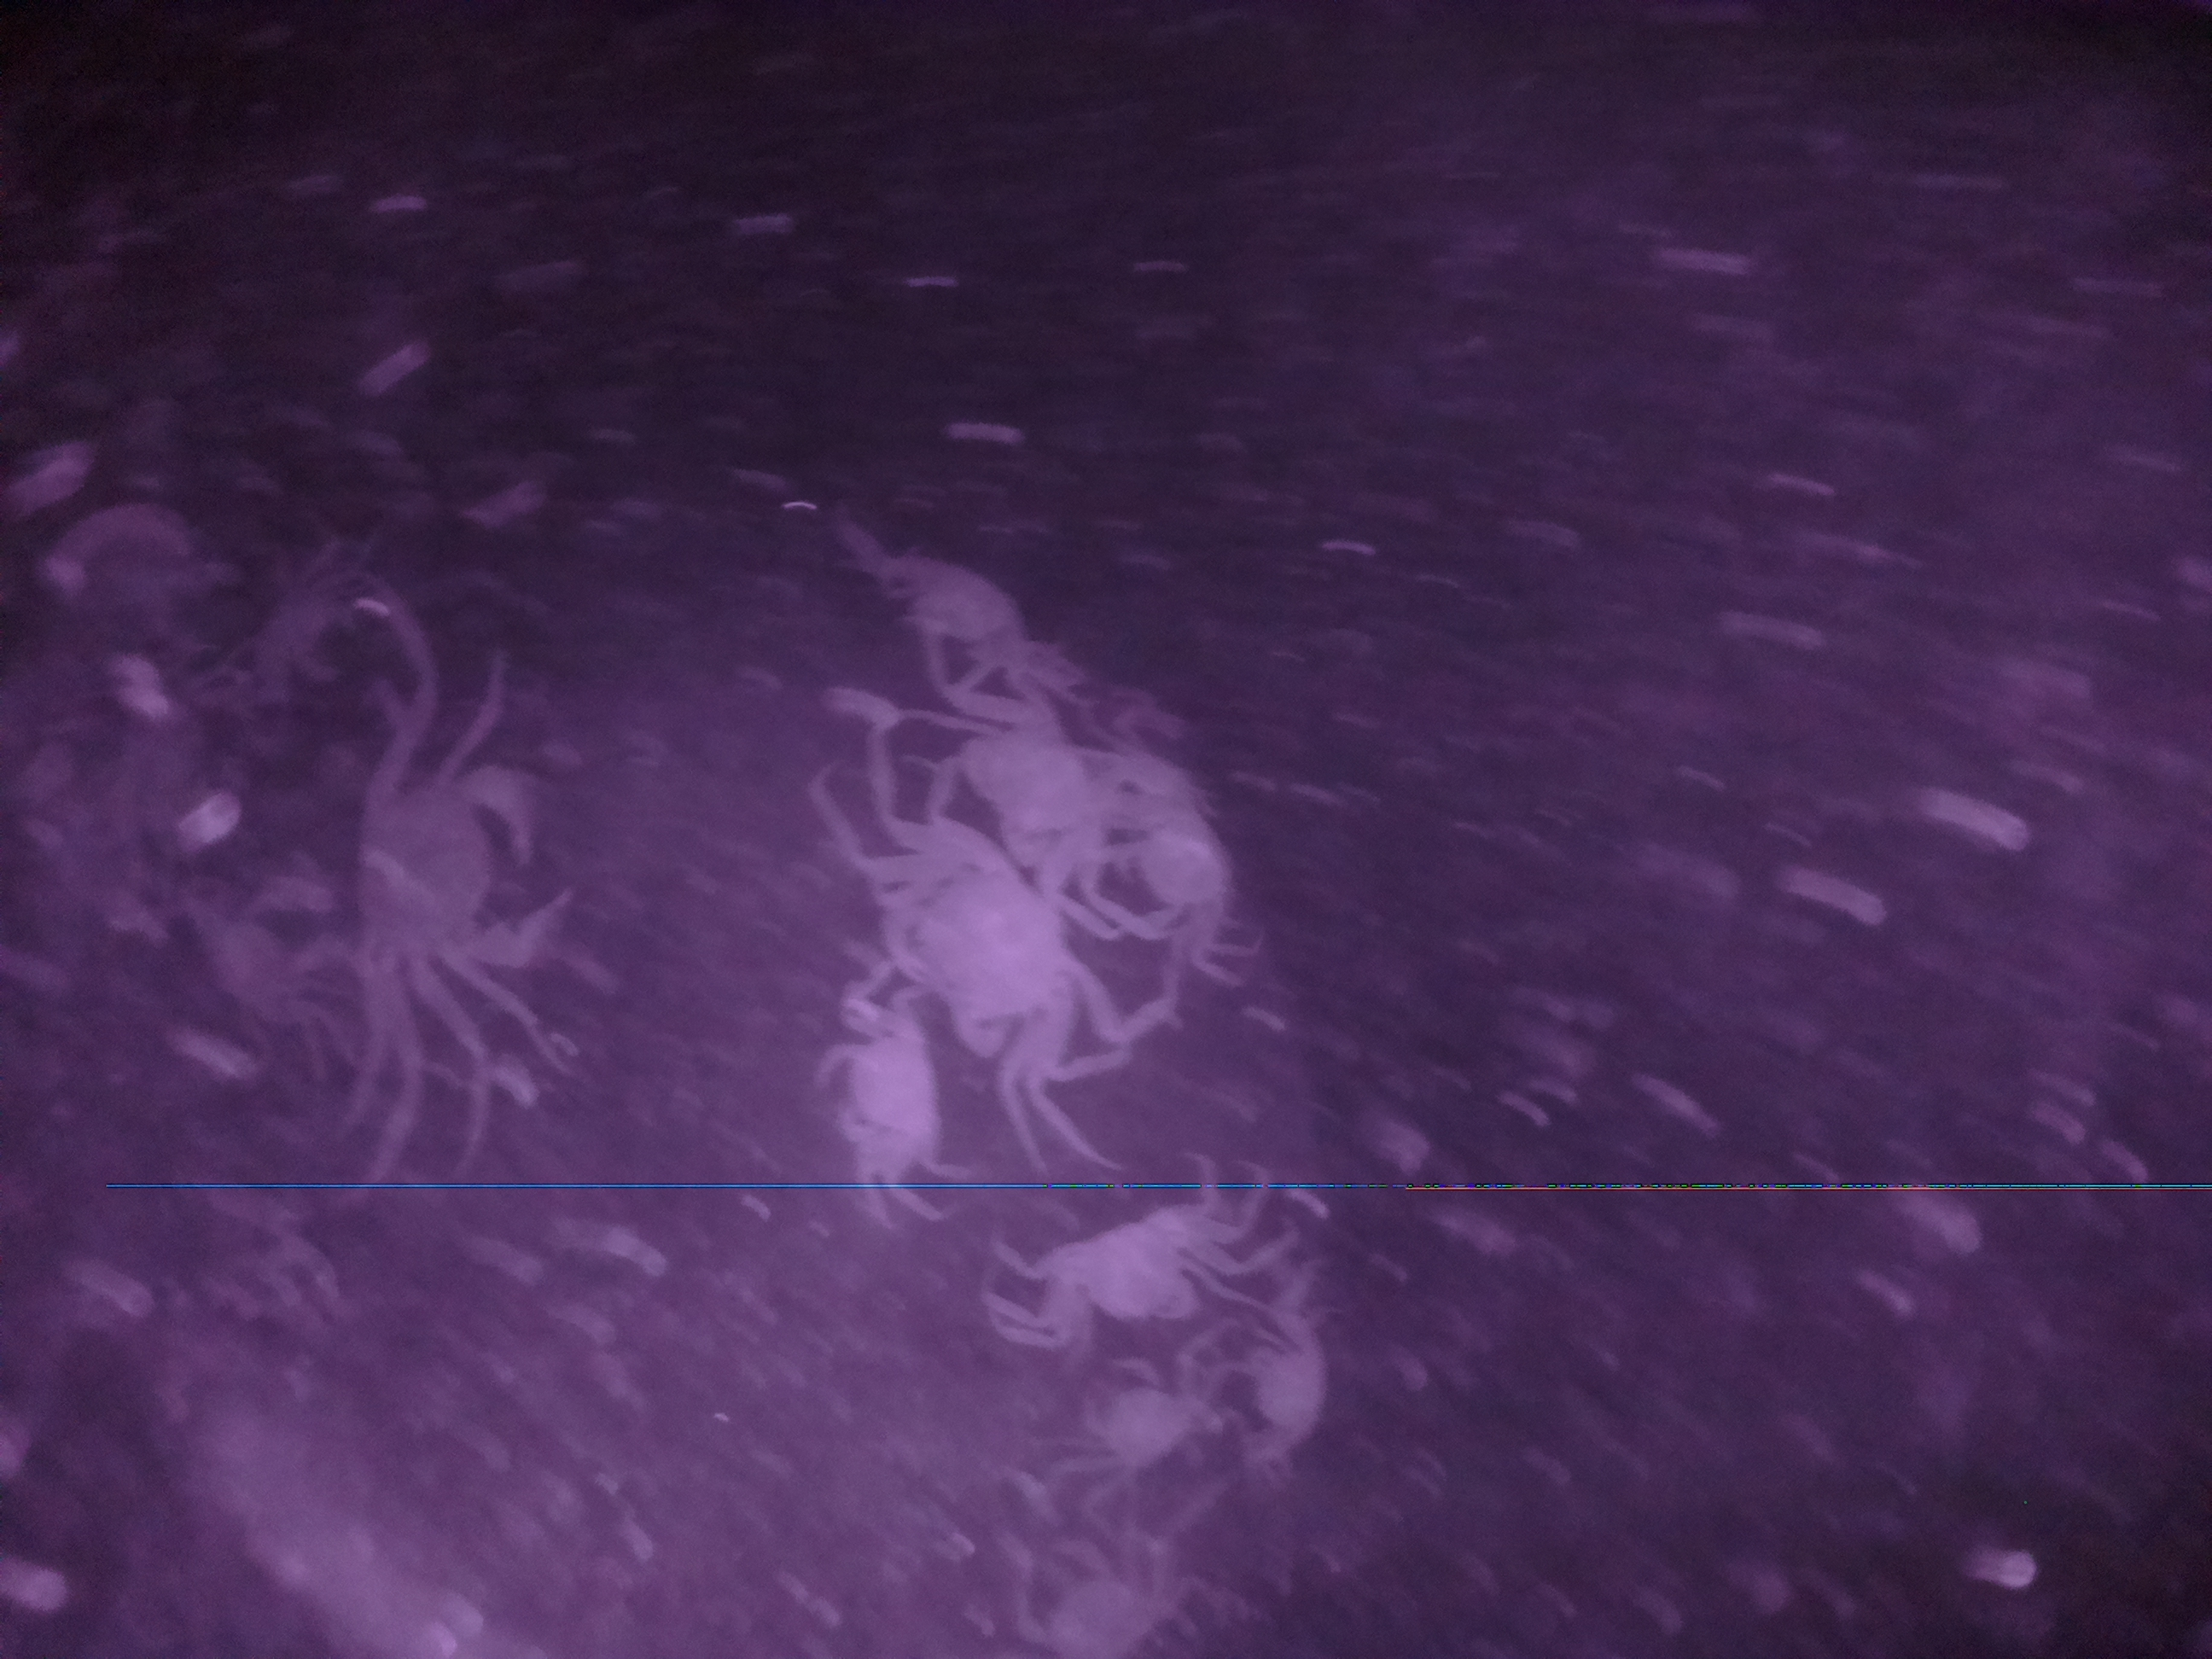Crab: (862, 798, 1111, 1098), (1015, 1194, 1221, 1331)
